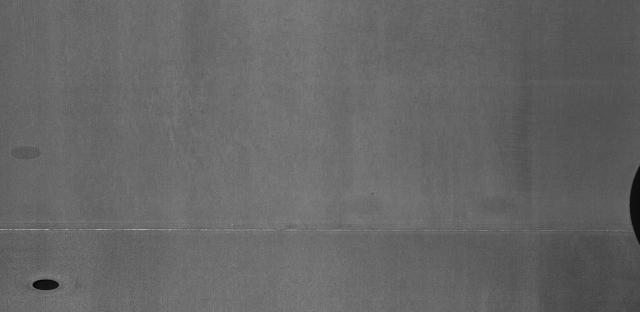punching_hole: (28, 272, 69, 293)
welding_line: (1, 219, 640, 242)
